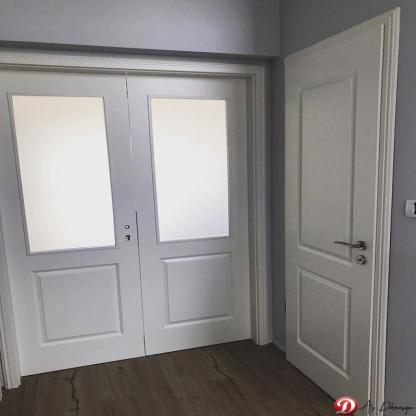door: (14, 78, 246, 378), (284, 25, 382, 416)
